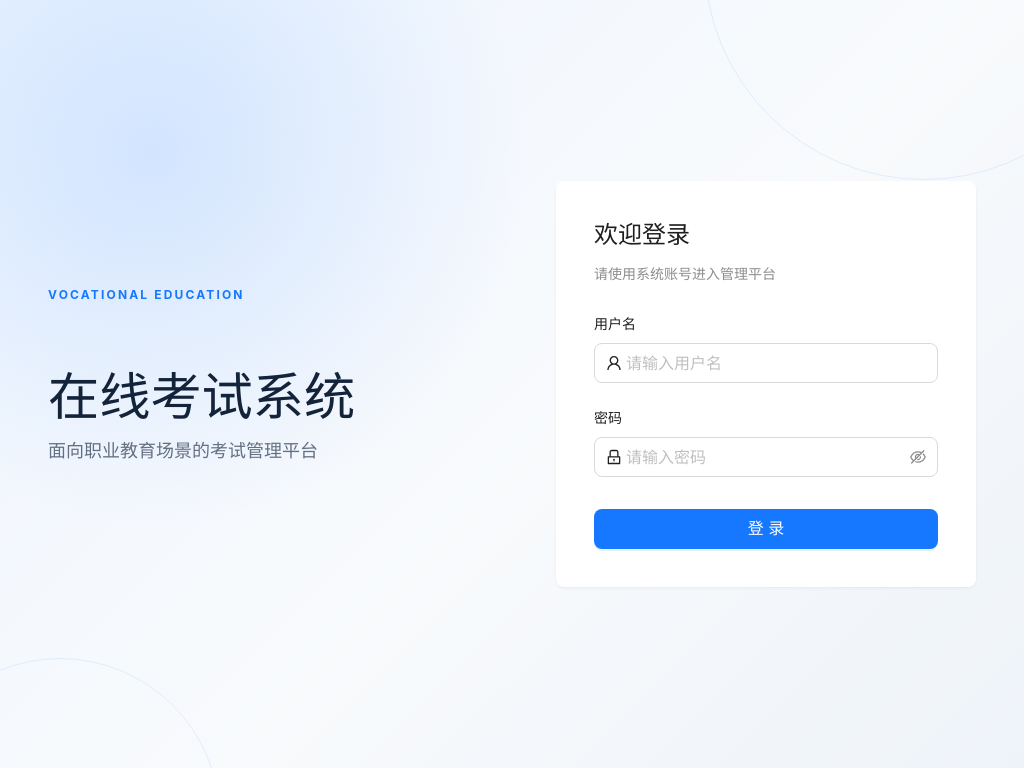
Scenario: login page › renders the required login fields and validation
The image size is (1024, 768).
Expected: the heading "在线考试系统" is shown, [48,365,355,427]
Expected: the field labelled "用户名" is shown, [626,351,926,375]
Click the button "登 录" at (766, 529), box [594,509,938,549]
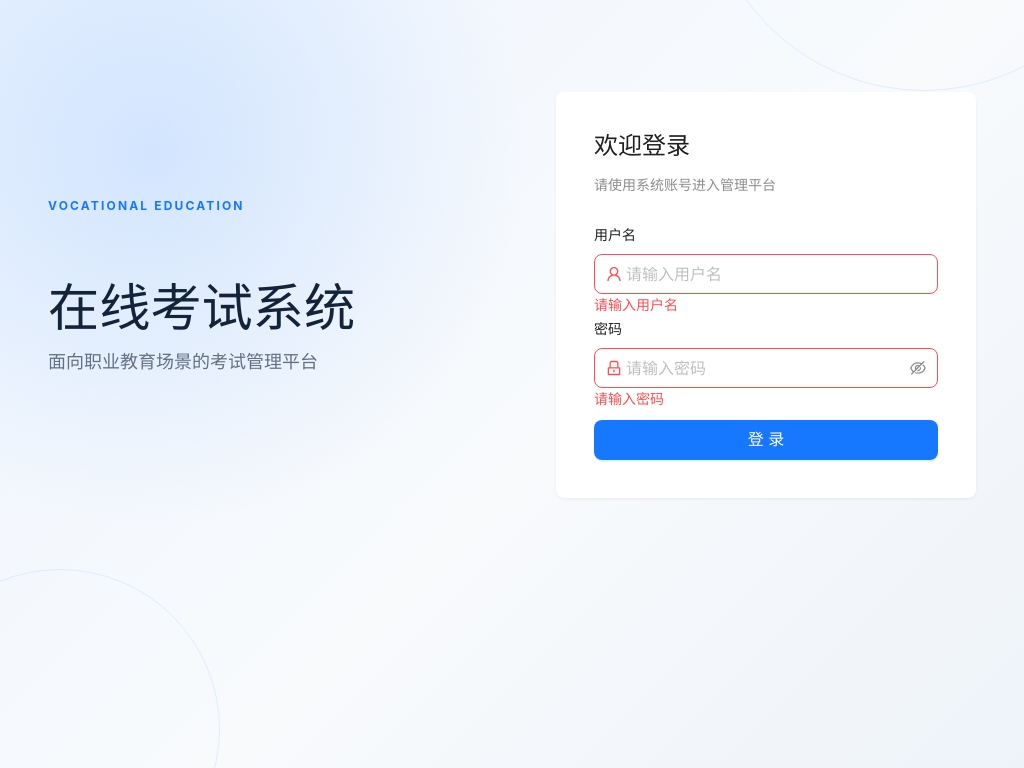
Now the text "请输入用户名" is shown, box [594,296,678,313]
Now the text "请输入密码" is shown, box [594,390,664,407]
